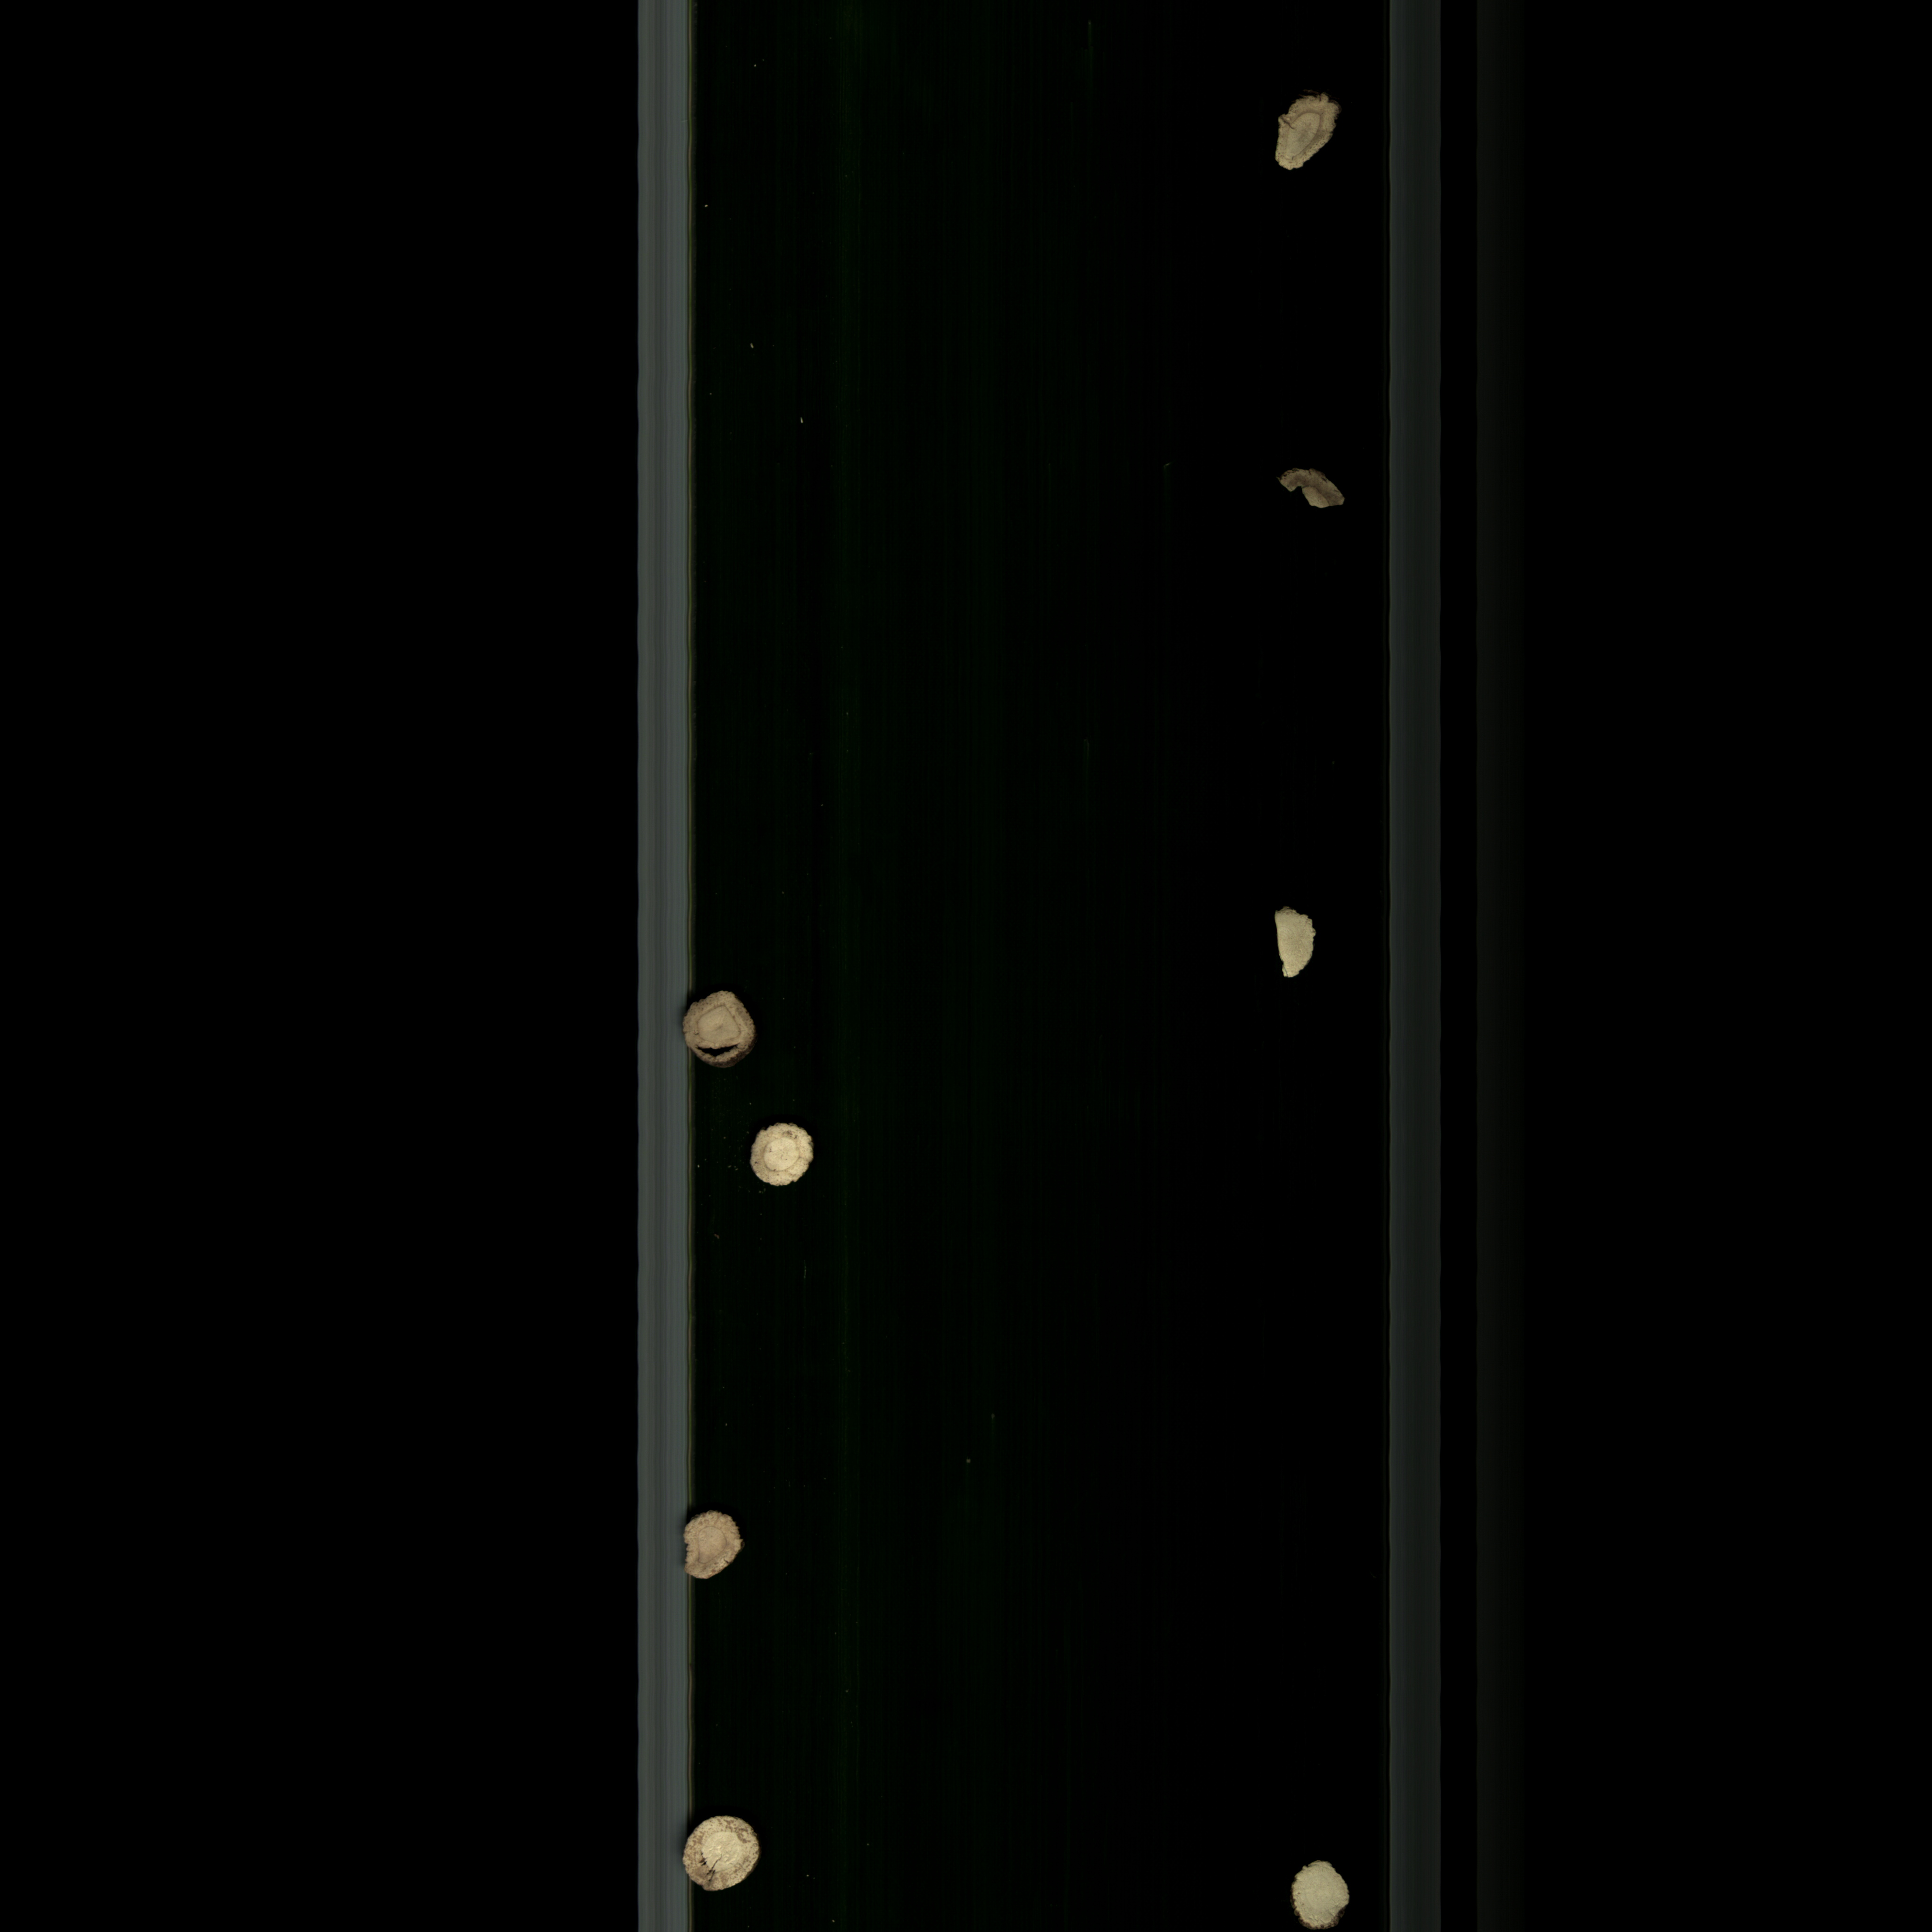debris: (1281, 1847, 1359, 1932), (1261, 899, 1323, 998)
moldy: (676, 1806, 778, 1897), (1263, 85, 1352, 179), (676, 985, 770, 1067), (672, 1502, 757, 1591), (1269, 464, 1350, 522)
